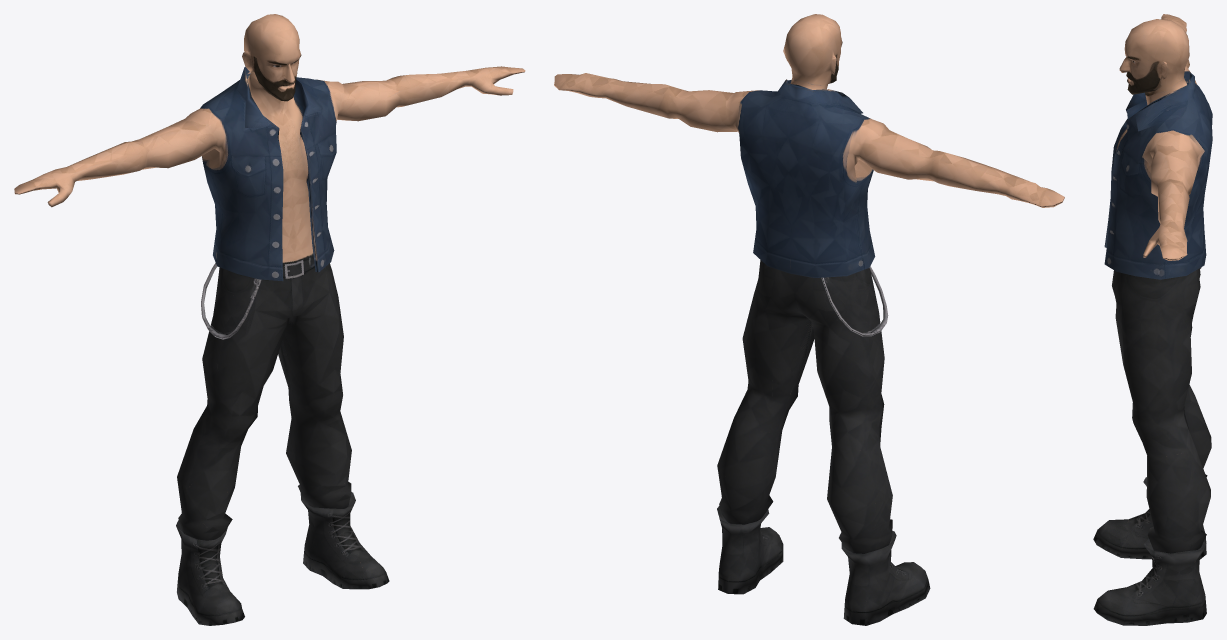
File: thug_white_male_beard.glb
3 views of the same model, side by side, from view 1: azimuth 30°, elevation 25°; view 2: azimuth 150°, elevation 25°; view 3: azimuth 270°, elevation 25° (orthographic).
Size of the model in its own units: 0.9277 by 1 by 0.1924.
1 material, 1 textured.
